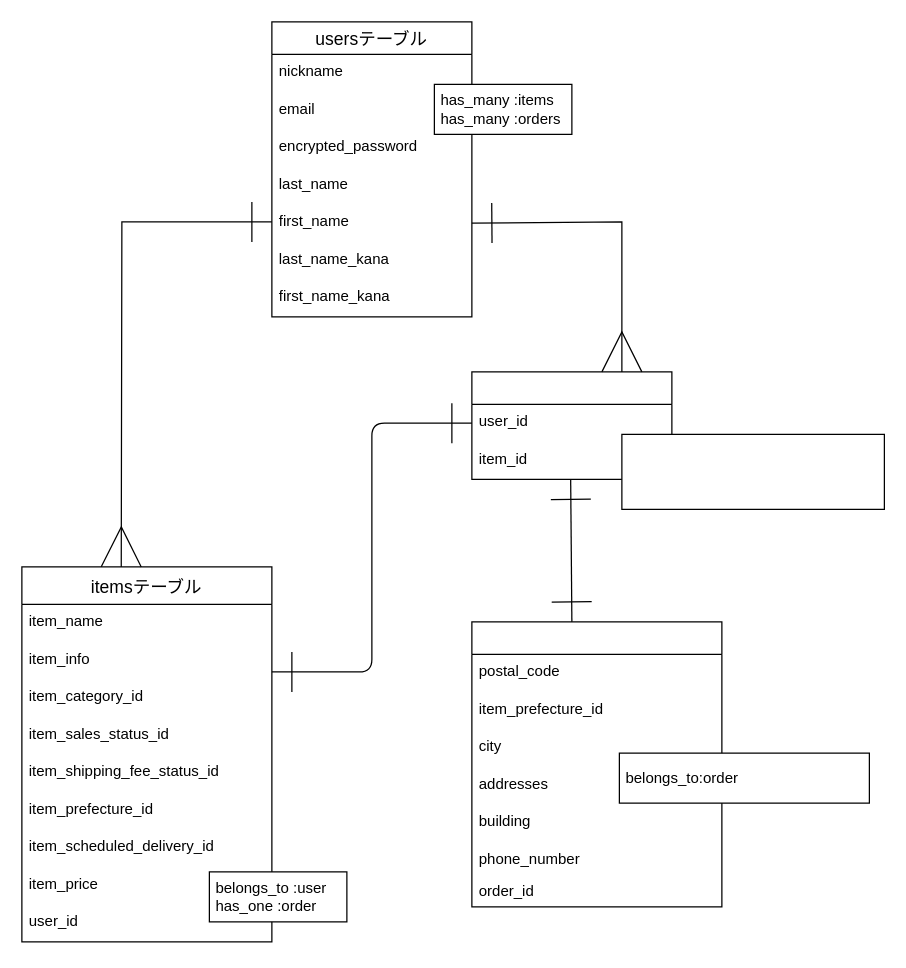
Image size: 906x968. Some labels were removed from this diagram. The box of each missing label's shape, as (x1, y1, x2, y2) in pixels:
belongs_to :user belongs_to :item has_one : shopping_address: (621, 433, 884, 509)
ordersテーブル: (471, 371, 672, 479)
shopping_addressesテーブル: (471, 621, 722, 907)
